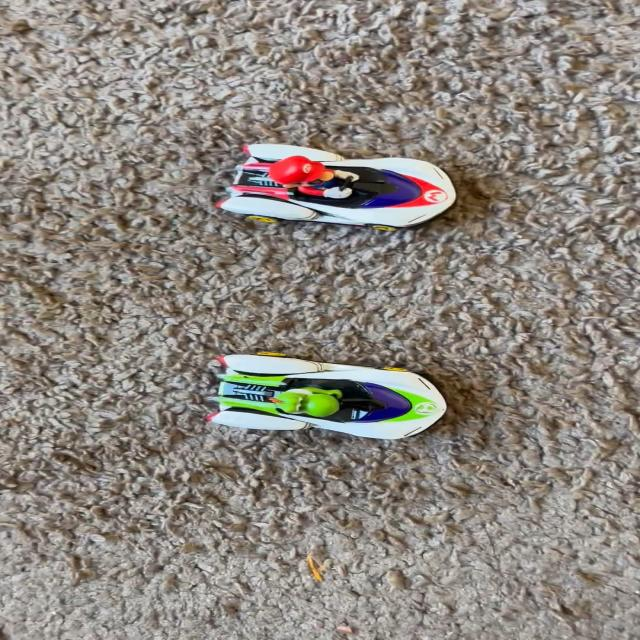mario: (213, 124, 460, 230)
yoshi: (170, 332, 467, 462)
